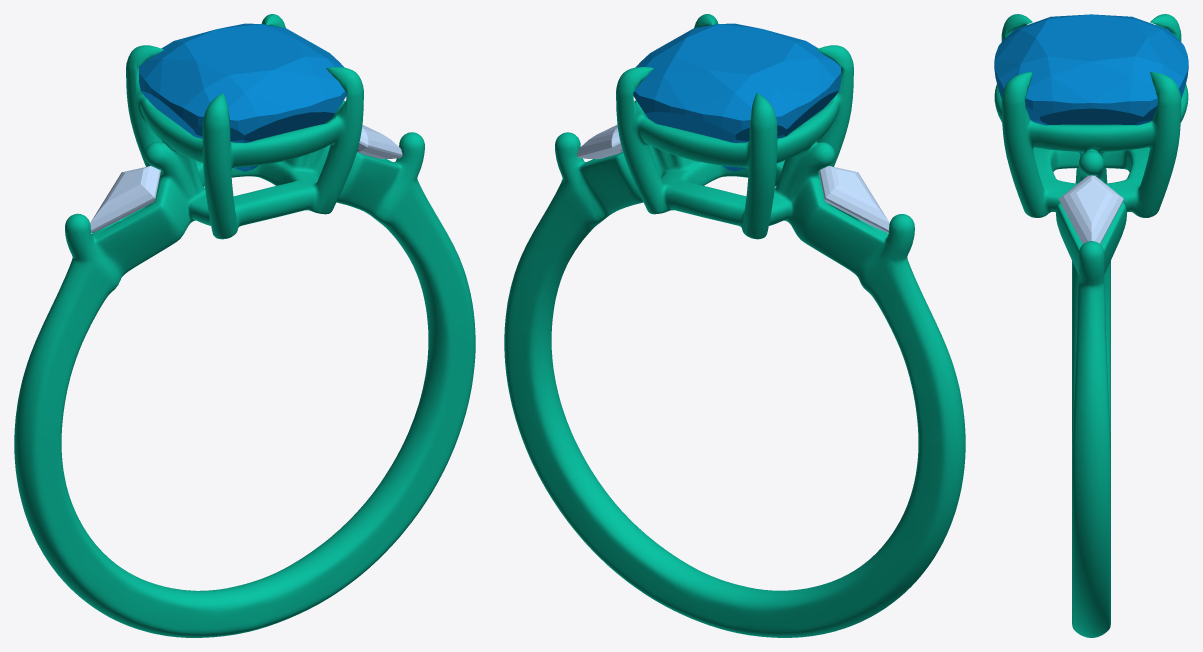
The model's file is BE1D6317_CU_200ct_RENDER.glb.
The picture shows the model from 3 angles, left to right: view 1: azimuth 30°, elevation 25°; view 2: azimuth 150°, elevation 25°; view 3: azimuth 270°, elevation 25°; orthographic projection.
Visible parts, largest first — view 1: Metal 01, CS_Diamond_Cushion Square, Diamond_Marquise_Side.001, Diamond_Marquise_Side; view 2: Metal 01, CS_Diamond_Cushion Square, Diamond_Marquise_Side.001, Diamond_Marquise_Side; view 3: Metal 01, CS_Diamond_Cushion Square, Diamond_Marquise_Side.
Boxes of the visible parts, x1,y1,x2,y2 form: Metal 01: (14, 14, 475, 637); CS_Diamond_Cushion Square: (139, 23, 346, 171); Diamond_Marquise_Side.001: (90, 166, 160, 232); Diamond_Marquise_Side: (357, 124, 402, 158); Metal 01: (504, 14, 965, 637); CS_Diamond_Cushion Square: (633, 23, 840, 171); Diamond_Marquise_Side.001: (819, 166, 889, 232); Diamond_Marquise_Side: (577, 124, 622, 158); Metal 01: (994, 14, 1188, 637); CS_Diamond_Cushion Square: (994, 14, 1188, 152); Diamond_Marquise_Side: (1059, 175, 1123, 243).
Bounding box in the file's own units: 20.09 × 24.47 × 7.5.
